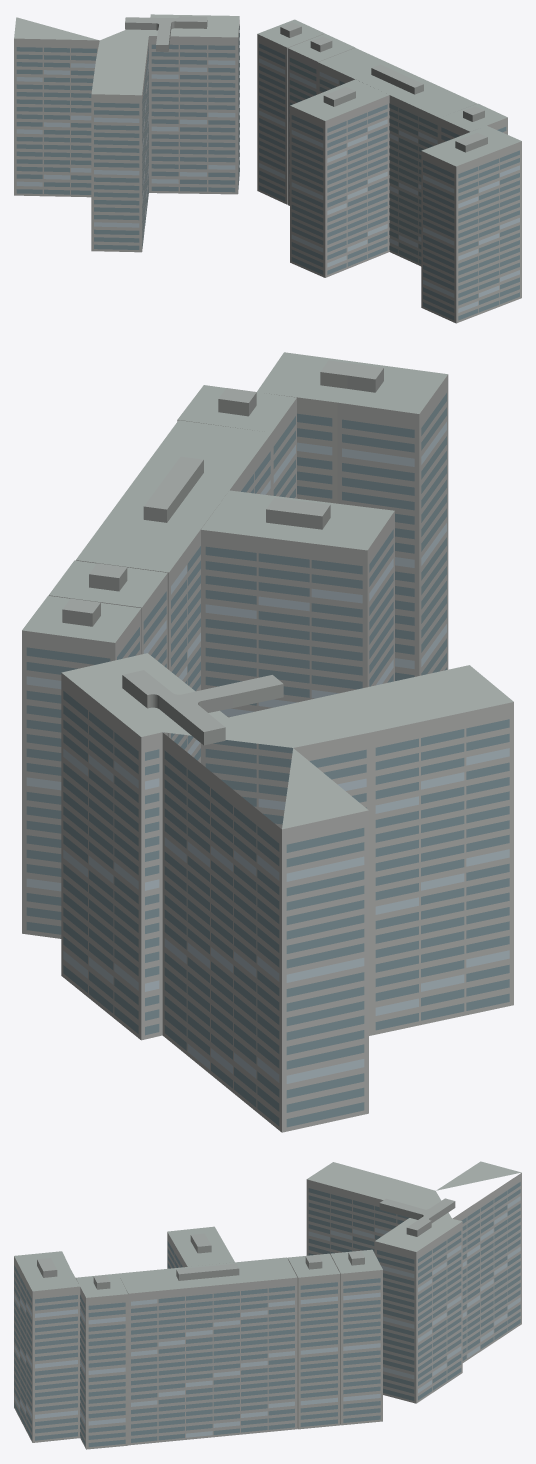
The model's file is apt-a15105006.glb.
3 views of the same model, one above another, from view 1: azimuth 30°, elevation 25°; view 2: azimuth 150°, elevation 25°; view 3: azimuth 270°, elevation 25° (orthographic). The views are drawn at different scales.
Visible parts, largest first — view 1: apt-a15105006; view 2: apt-a15105006; view 3: apt-a15105006.
Part boxes in pixels (x1,y1,x2,y2): apt-a15105006: (14, 14, 521, 323); apt-a15105006: (22, 352, 513, 1132); apt-a15105006: (14, 1161, 521, 1449).
Size of the model in its own units: 105 by 57 by 166.
